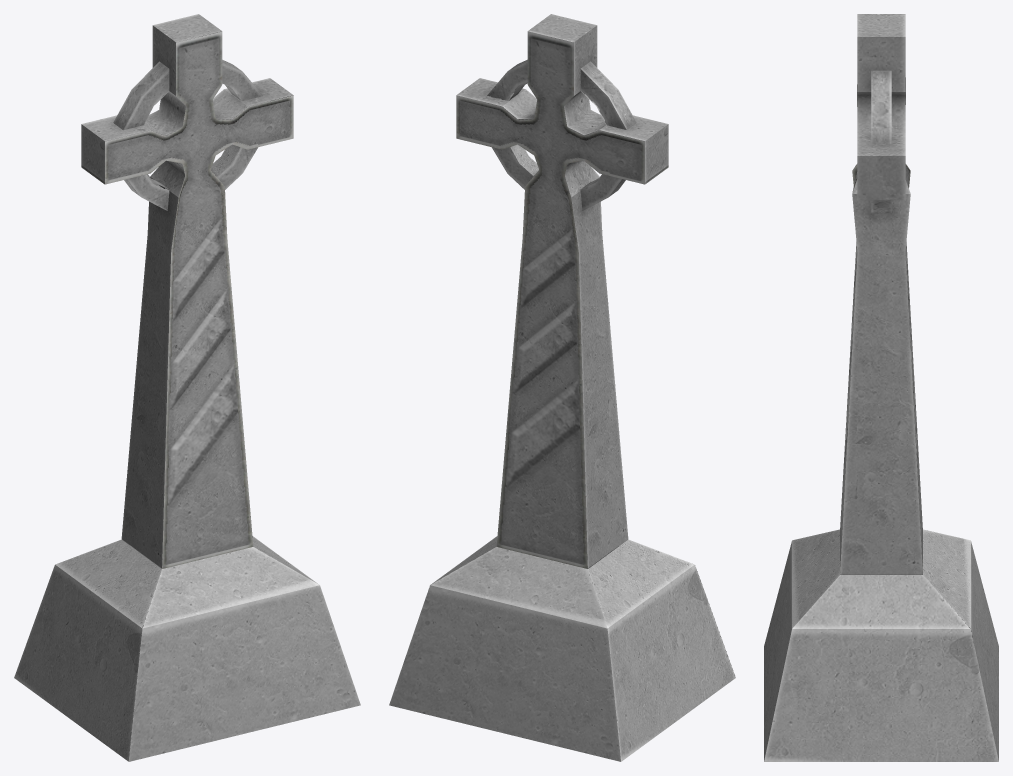
The model's file is grave4.FBX.
3 views of the same model, side by side, from view 1: azimuth 30°, elevation 25°; view 2: azimuth 150°, elevation 25°; view 3: azimuth 270°, elevation 25° (orthographic). The views are drawn at different scales.
Visible parts, largest first — view 1: grave4; view 2: grave4; view 3: grave4.
Part boxes in pixels (left/top/right/bottom): grave4: left=14, top=14, right=360, bottom=761; grave4: left=389, top=14, right=735, bottom=761; grave4: left=764, top=14, right=998, bottom=761.
Bounding box in the file's own units: 35 × 95.62 × 30.
